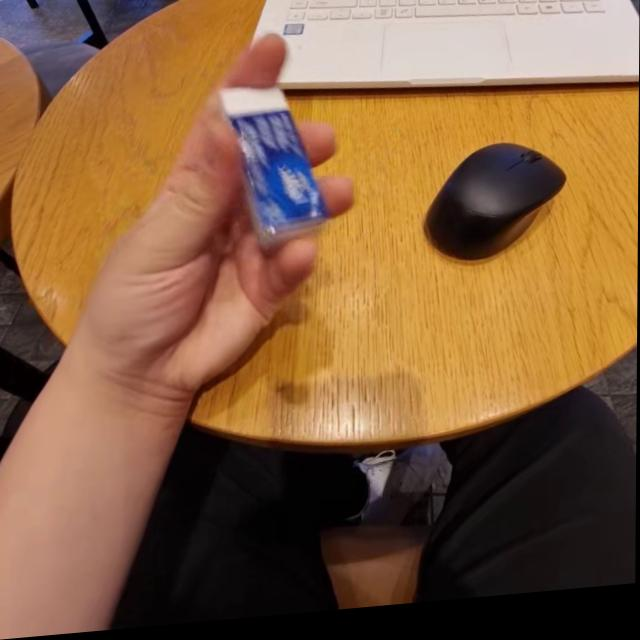grab_eraser: (114, 39, 339, 388)
mouse: (409, 142, 572, 293)
